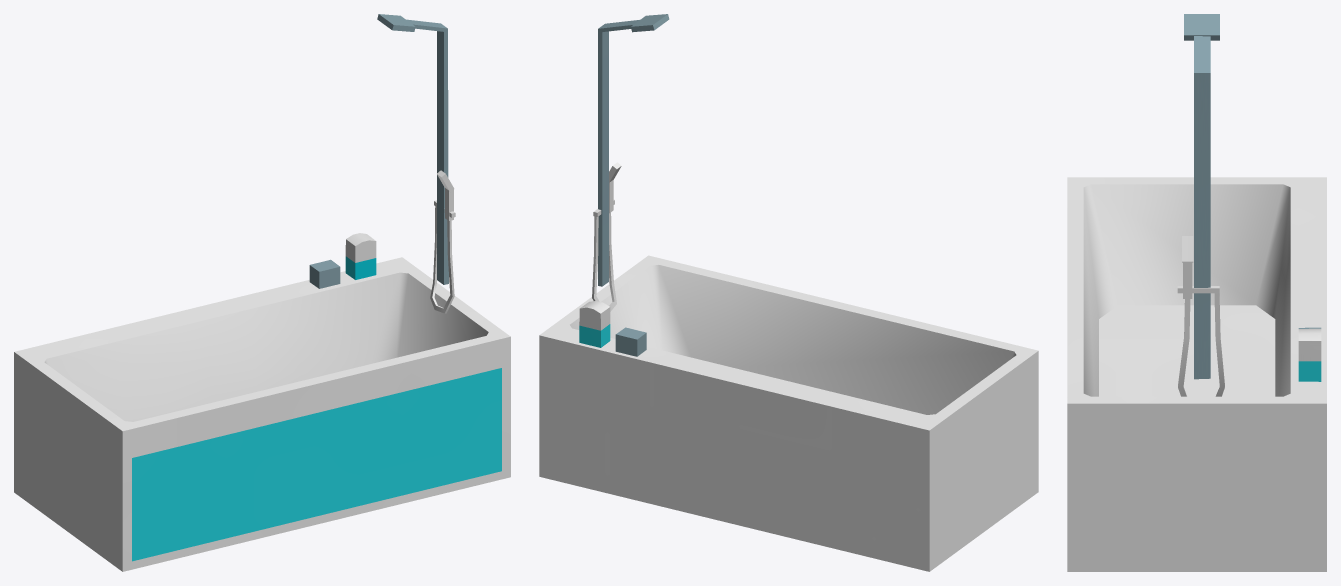
File: bathroom_item_026.fbx
3 renders of one model, left to right at view 1: azimuth 30°, elevation 25°; view 2: azimuth 150°, elevation 25°; view 3: azimuth 270°, elevation 25°, orthographic. The views are drawn at different scales.
Parts seen in each view (by area): view 1: bathroom_item_026; view 2: bathroom_item_026; view 3: bathroom_item_026.
Part boxes in pixels (x1,y1,x2,y2): bathroom_item_026: (14, 14, 510, 571); bathroom_item_026: (539, 14, 1038, 571); bathroom_item_026: (1067, 14, 1326, 571).
Bounding box in the file's own units: 170 × 82.27 × 181.
